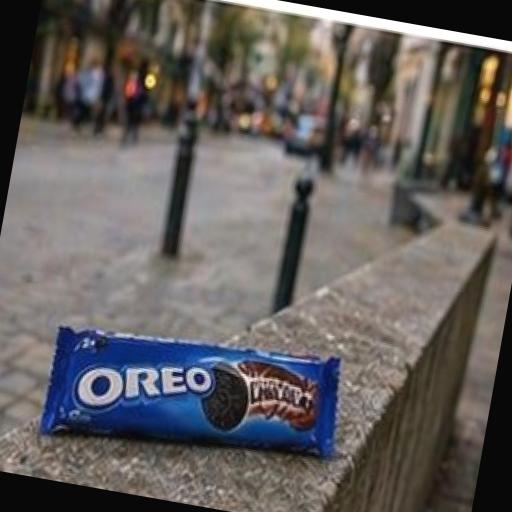oreo: (5, 279, 415, 512)
